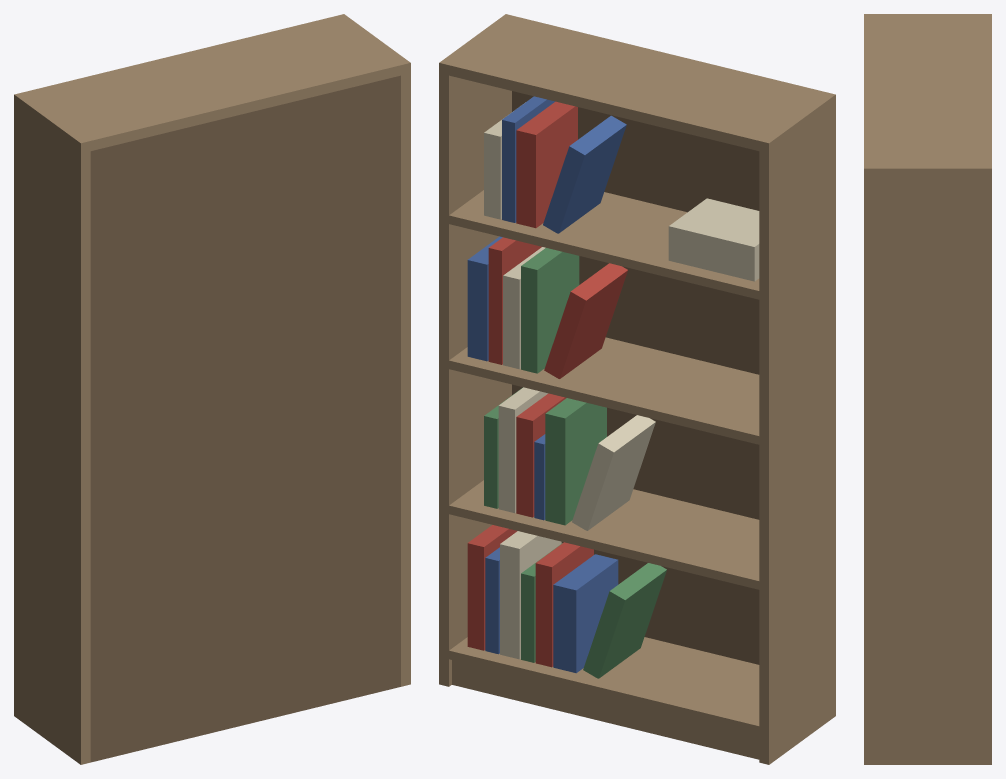
File: shelf.glb
3 renders of one model, left to right at view 1: azimuth 30°, elevation 25°; view 2: azimuth 150°, elevation 25°; view 3: azimuth 270°, elevation 25°, orthographic. The views are drawn at different scales.
Visible parts, largest first — view 1: shelf; view 2: shelf; view 3: shelf.
Boxes of the visible parts, bbox=[...] form: shelf: bbox=[14, 14, 410, 764]; shelf: bbox=[439, 14, 835, 764]; shelf: bbox=[864, 14, 991, 764].
Size of the model in its own units: 1 by 1.8 by 0.35.
